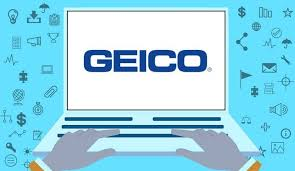Geico: (82, 47, 214, 75)
